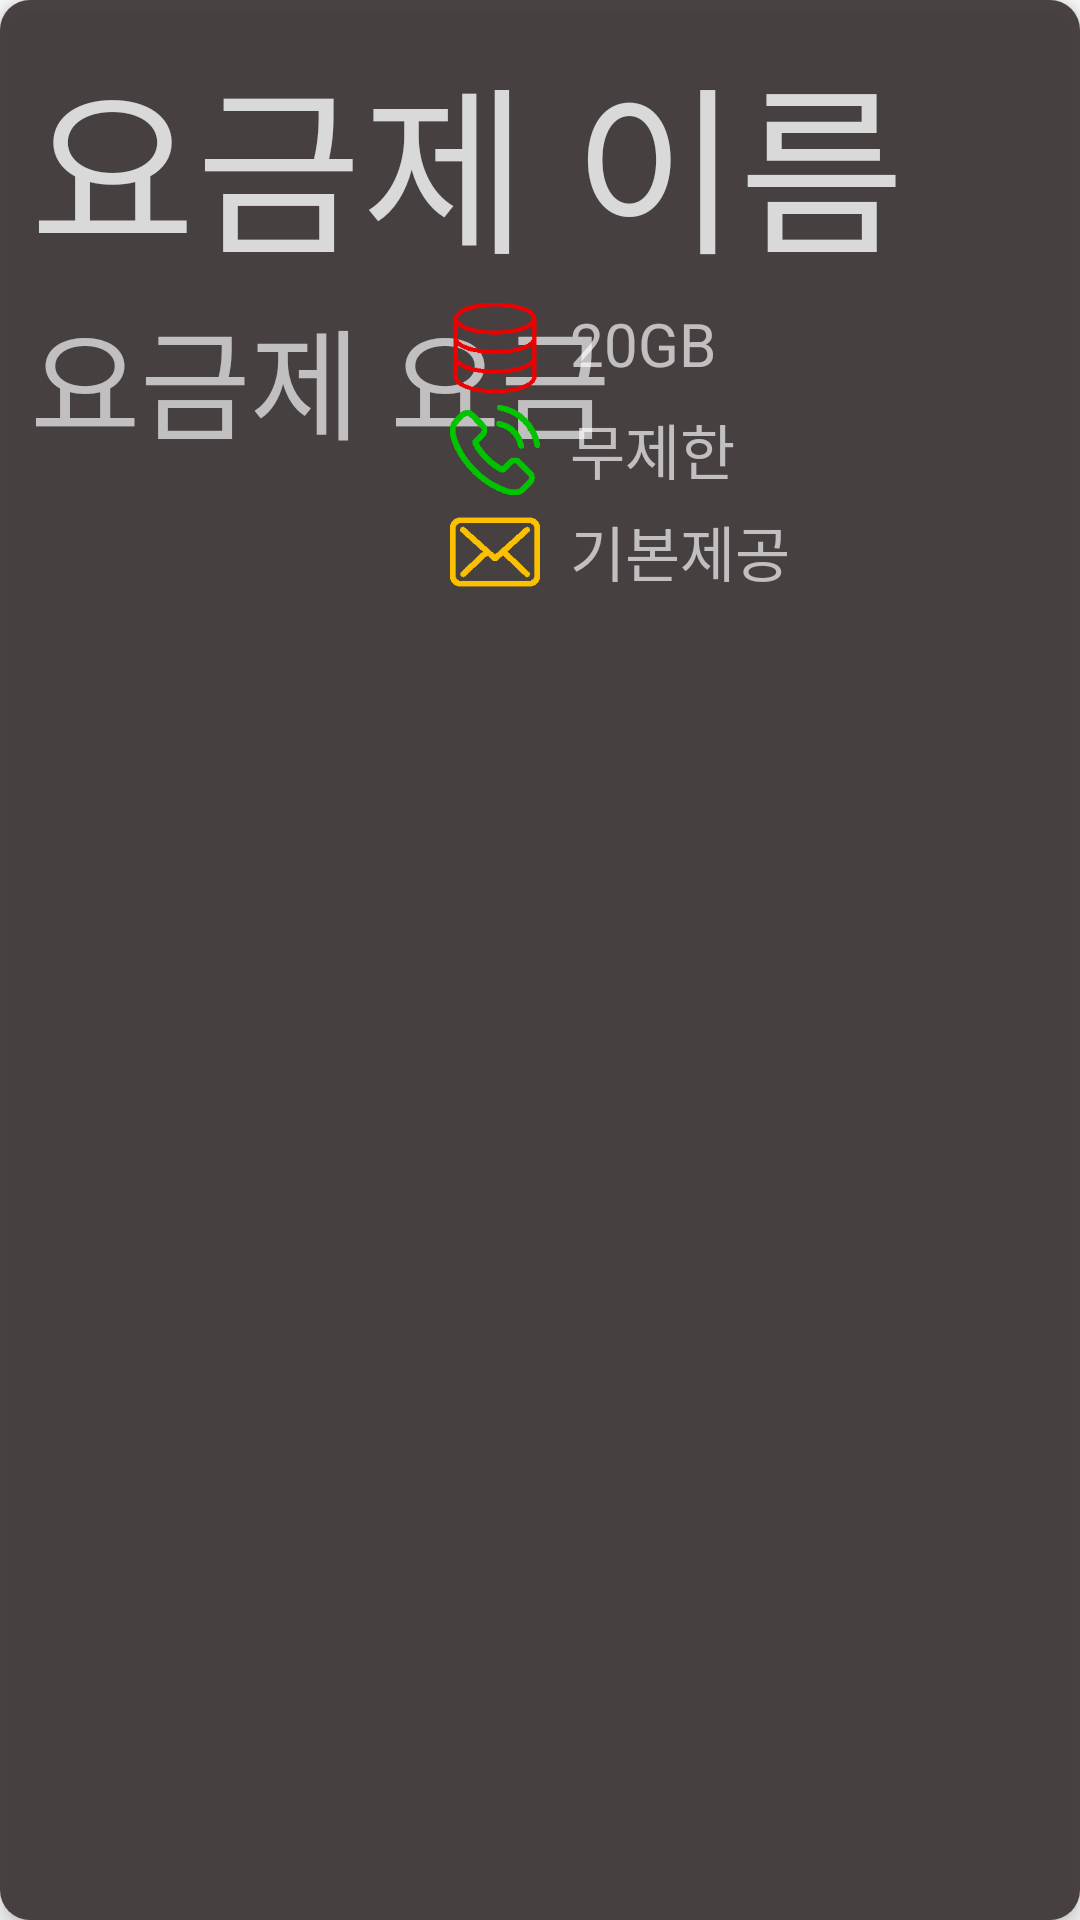

Where to tap for icons on this 1080 x 1920 app screen, as (x,y):
plan call: (495,450)
plan data: (495,348)
plan sms yello: (495,552)
